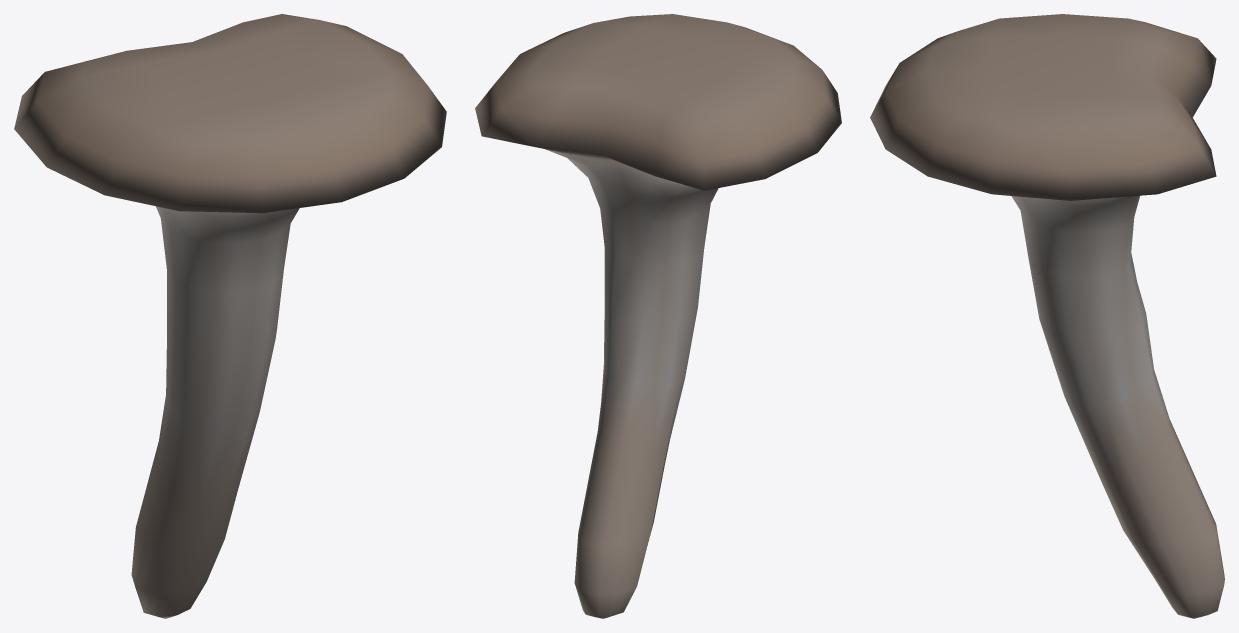
The picture shows the model from 3 angles, left to right: view 1: azimuth 30°, elevation 25°; view 2: azimuth 150°, elevation 25°; view 3: azimuth 270°, elevation 25°; orthographic projection. The views are drawn at different scales.
Visible parts, largest first — view 1: base.555; view 2: base.555; view 3: base.555.
Boxes of the visible parts, x1,y1,x2,y2 form: base.555: (14,14,446,618); base.555: (475,14,841,618); base.555: (870,14,1224,618).
Bounding box in the file's own units: 0.3232 × 0.5 × 0.2911.
